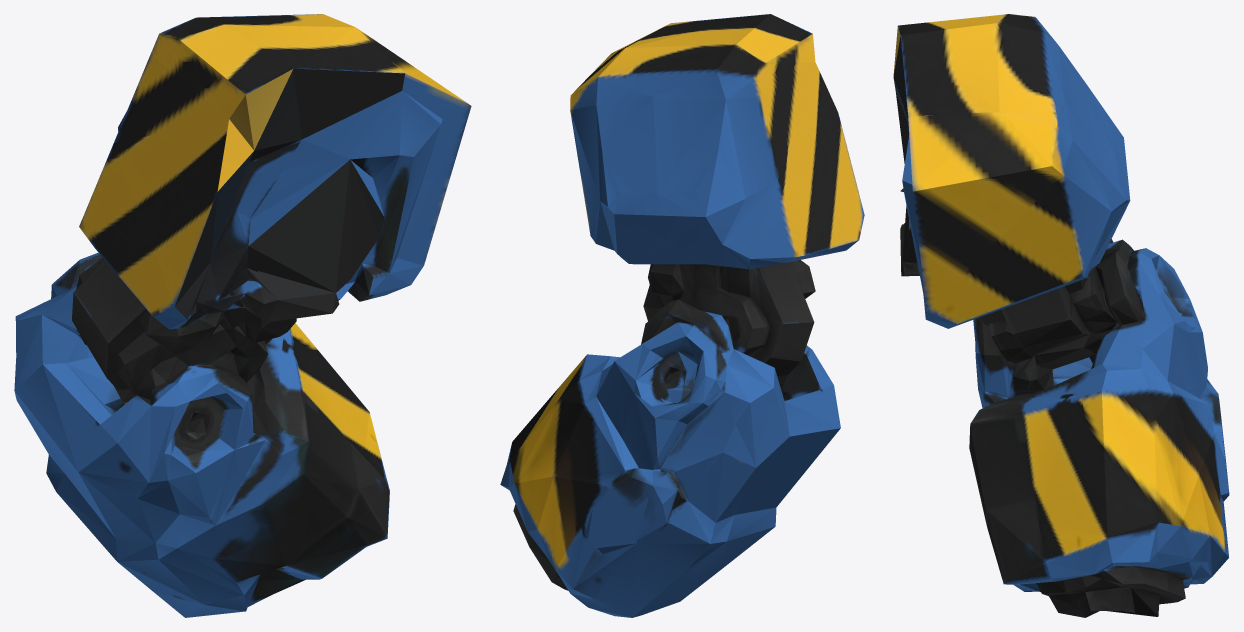
File: SM_HeavyDebris_UpperArm_L.fbx
3 views of the same model, side by side, from view 1: azimuth 30°, elevation 25°; view 2: azimuth 150°, elevation 25°; view 3: azimuth 270°, elevation 25° (orthographic). The views are drawn at different scales.
Visible parts, largest first — view 1: SM_HeavyDebris_UpperArm_L; view 2: SM_HeavyDebris_UpperArm_L; view 3: SM_HeavyDebris_UpperArm_L.
Part boxes in pixels (x1,y1,x2,y2): SM_HeavyDebris_UpperArm_L: (14, 14, 471, 617); SM_HeavyDebris_UpperArm_L: (500, 14, 864, 617); SM_HeavyDebris_UpperArm_L: (893, 14, 1229, 617).
Bounding box in the file's own units: 85.64 × 150 × 81.3.
Materials: 1 (1 with a texture image).
